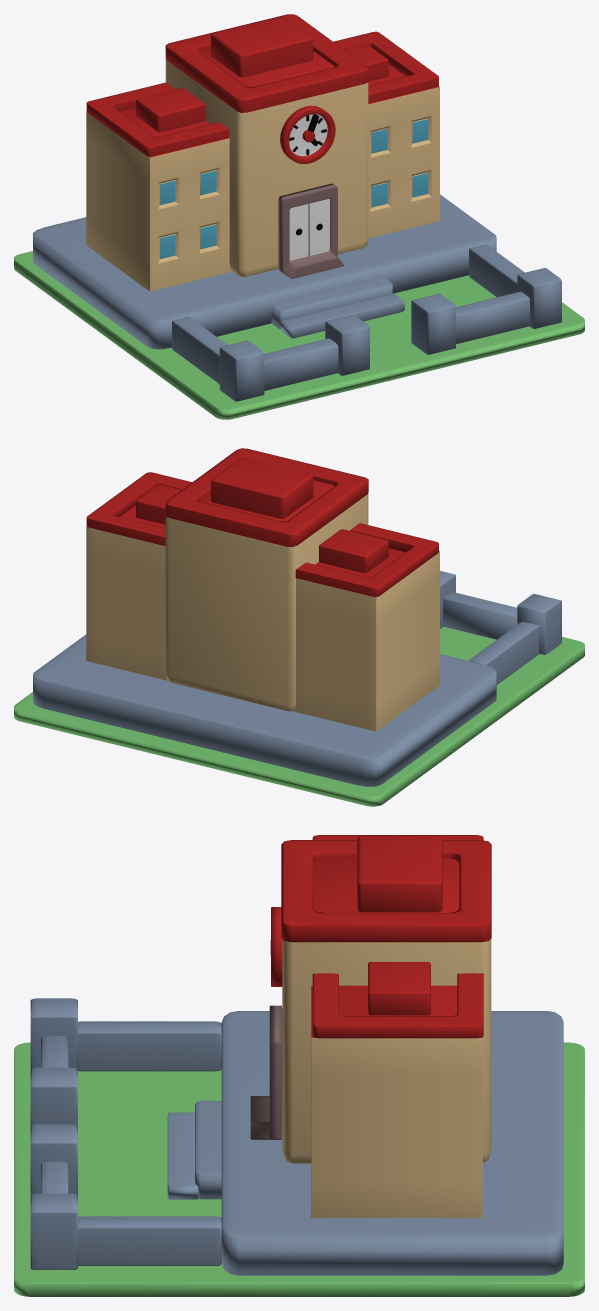
Rendered from School.fbx.
3 views of the same model, one above another, from view 1: azimuth 30°, elevation 25°; view 2: azimuth 150°, elevation 25°; view 3: azimuth 270°, elevation 25° (orthographic). The views are drawn at different scales.
Visible parts, largest first — view 1: Cube.014, Cube.004, Cube.020; view 2: Cube.014, Cube.020, Cube.004; view 3: Cube.014, Cube.004, Cube.020.
Boxes of the visible parts, bbox=[...] form: Cube.014: bbox=[86, 14, 439, 291]; Cube.004: bbox=[14, 244, 584, 419]; Cube.020: bbox=[33, 194, 496, 349]; Cube.014: bbox=[86, 448, 439, 731]; Cube.020: bbox=[33, 634, 496, 786]; Cube.004: bbox=[14, 571, 584, 806]; Cube.014: bbox=[250, 835, 491, 1217]; Cube.004: bbox=[14, 998, 584, 1296]; Cube.020: bbox=[167, 1011, 563, 1275].
Size of the model in its own units: 300 by 184 by 300.
